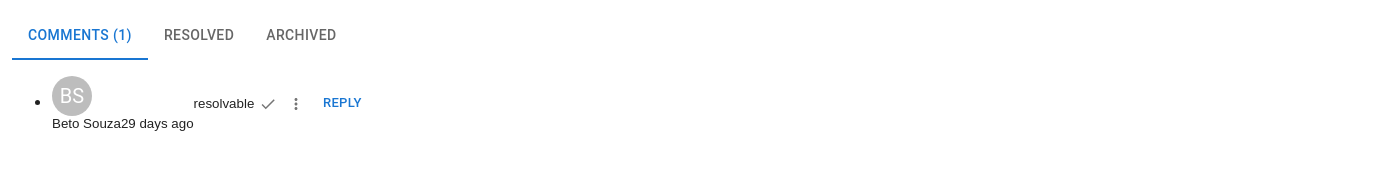
Test: <CommentsPanel /> review-round hardening › after Resolve the focus lands on the panel, never on <body>
Click the button named "Resolve". click: (268, 104)
box: [254,90,282,118]
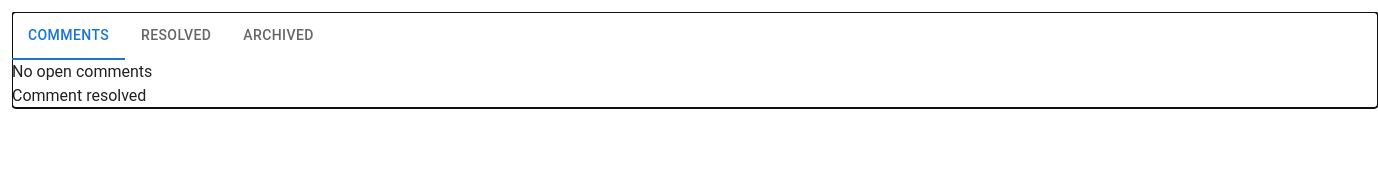
Check: the button "resolvable" is gone
